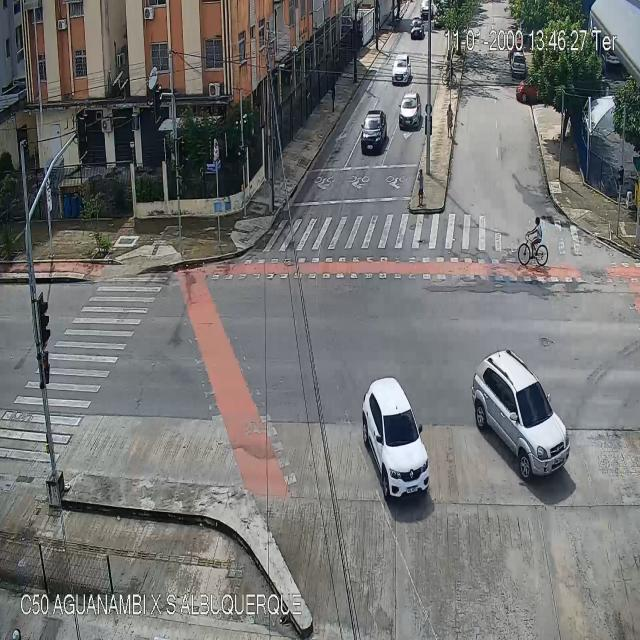Car: (473, 348, 570, 478), (362, 376, 430, 497), (362, 110, 386, 153), (400, 90, 420, 132), (516, 76, 540, 108), (391, 55, 412, 84), (511, 50, 526, 78), (408, 16, 422, 39), (421, 1, 433, 21)
